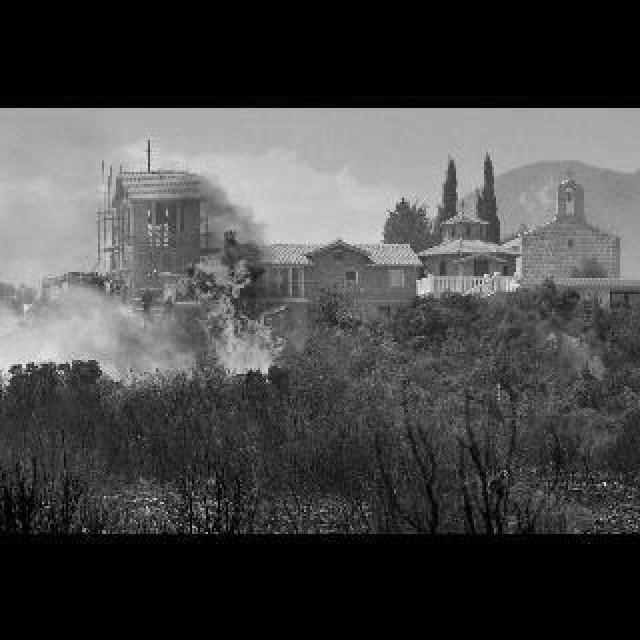Fire: (178, 258, 292, 376), (22, 298, 34, 310)
Smoke: (42, 272, 184, 378), (174, 170, 270, 268)
